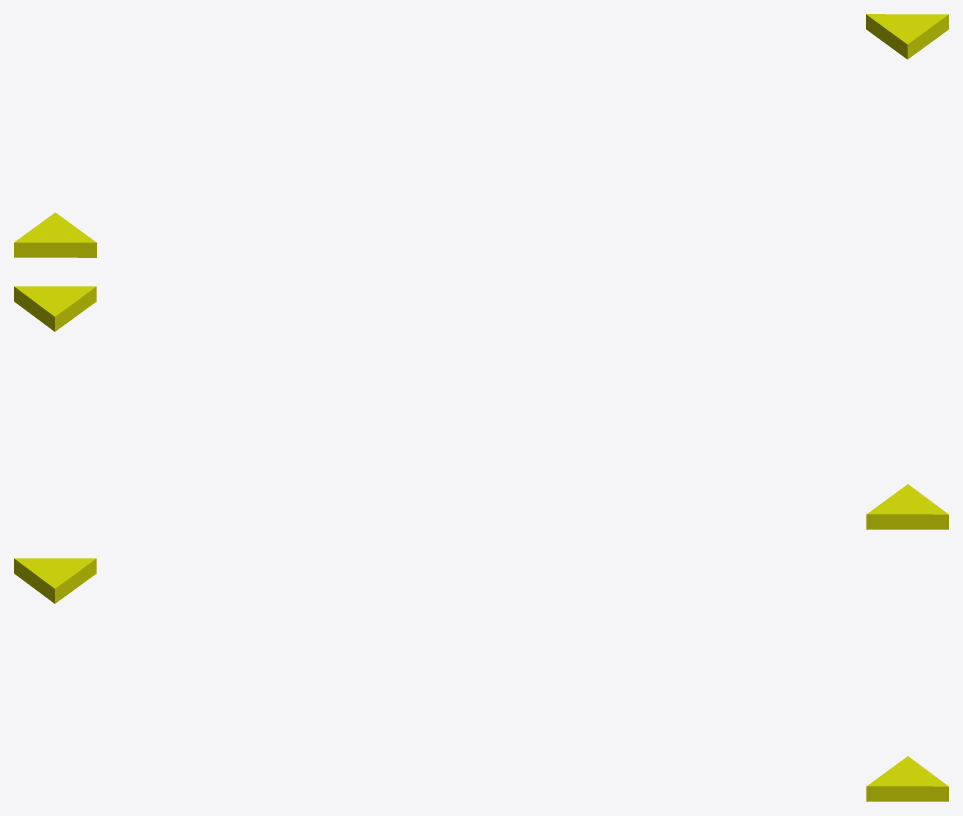
File: Indicators.64b62465.glb
3 views of the same model, one above another, from view 1: azimuth 30°, elevation 25°; view 2: azimuth 150°, elevation 25°; view 3: azimuth 330°, elevation 25° (orthographic).
Parts seen in each view (by area): view 1: Indicator_left, Indicator_right; view 2: Indicator_left, Indicator_right; view 3: Indicator_left, Indicator_right.
Part boxes in pixels (x1,y1,x2,y2): Indicator_left: (14, 212, 96, 257); Indicator_right: (866, 14, 948, 59); Indicator_left: (866, 484, 948, 529); Indicator_right: (14, 286, 96, 331); Indicator_left: (14, 558, 96, 603); Indicator_right: (866, 756, 948, 801).
Size of the model in its own units: 3.5 by 0.054 by 0.2727.
